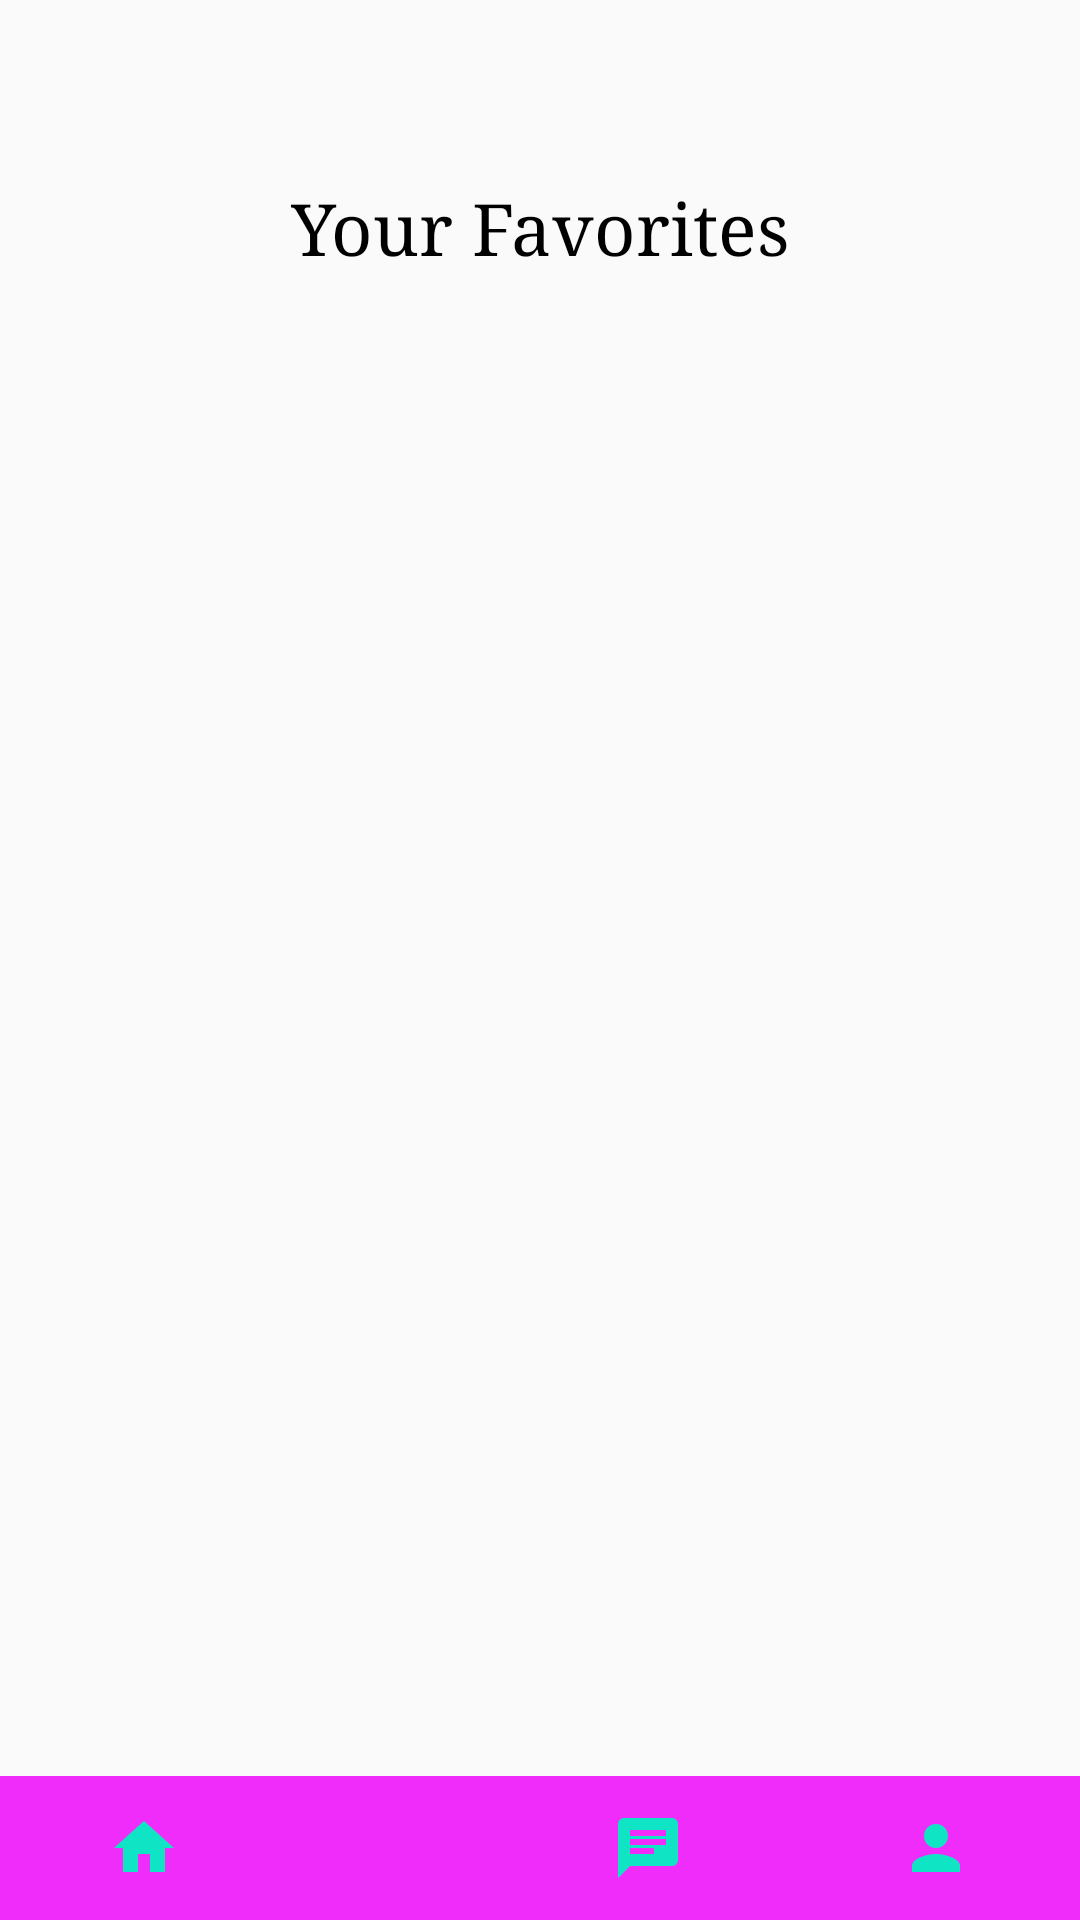

Icons on this 1080 x 1920 Android screen, each with its box as (x1, y1, x2, y2):
Chats display navigation button: (618, 1818, 678, 1878)
Home display navigation button: (114, 1821, 174, 1872)
Profile display navigation button: (912, 1824, 960, 1872)
